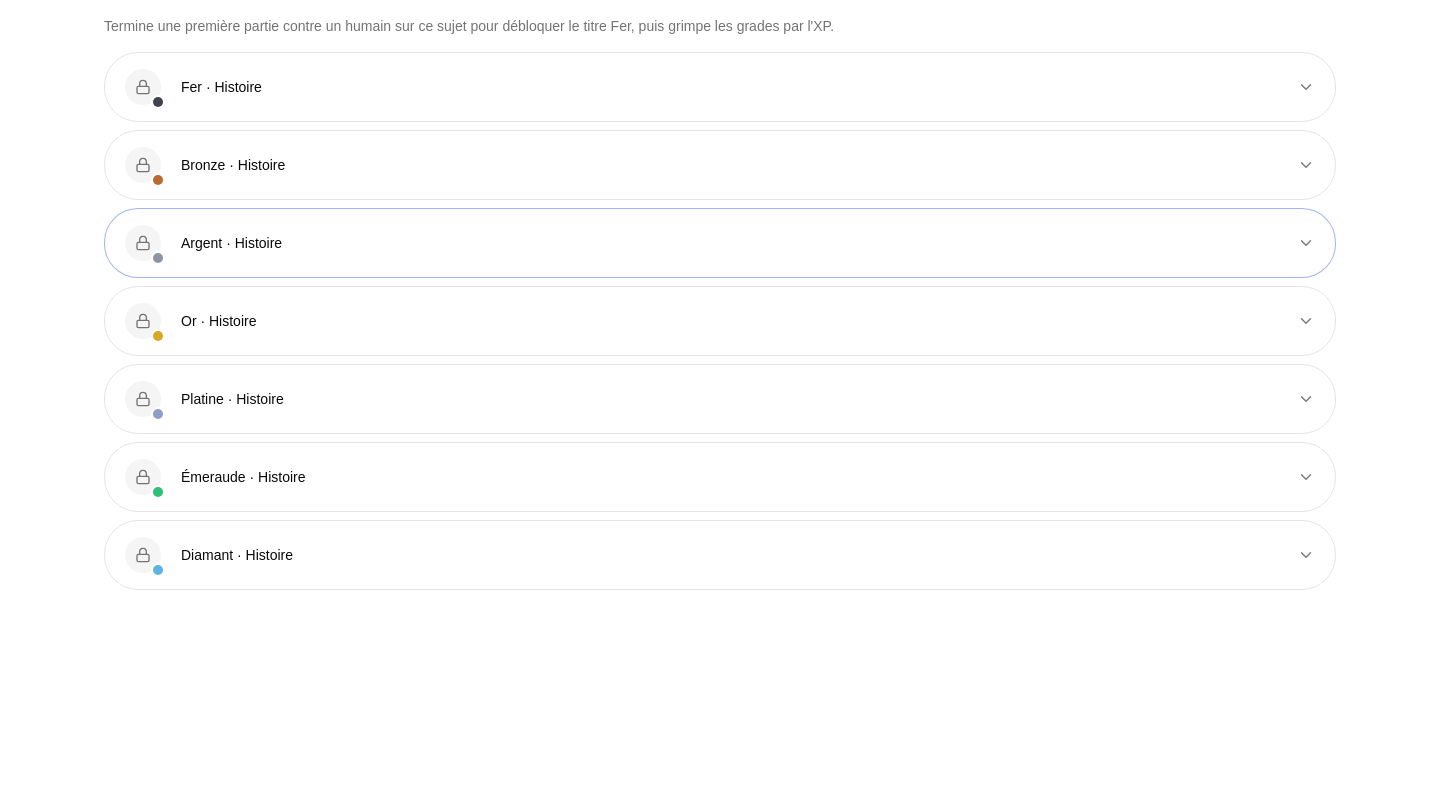
TopicTitlesTab › sans partie humaine : toute l'échelle est verrouillée et Fer annonce sa condition
Expected: the 1st icon with class "lucide-lock" is shown, [135,79,151,95]
Click the button "Fer · Histoire". click: point(143, 87)
box: [105,53,1335,121]
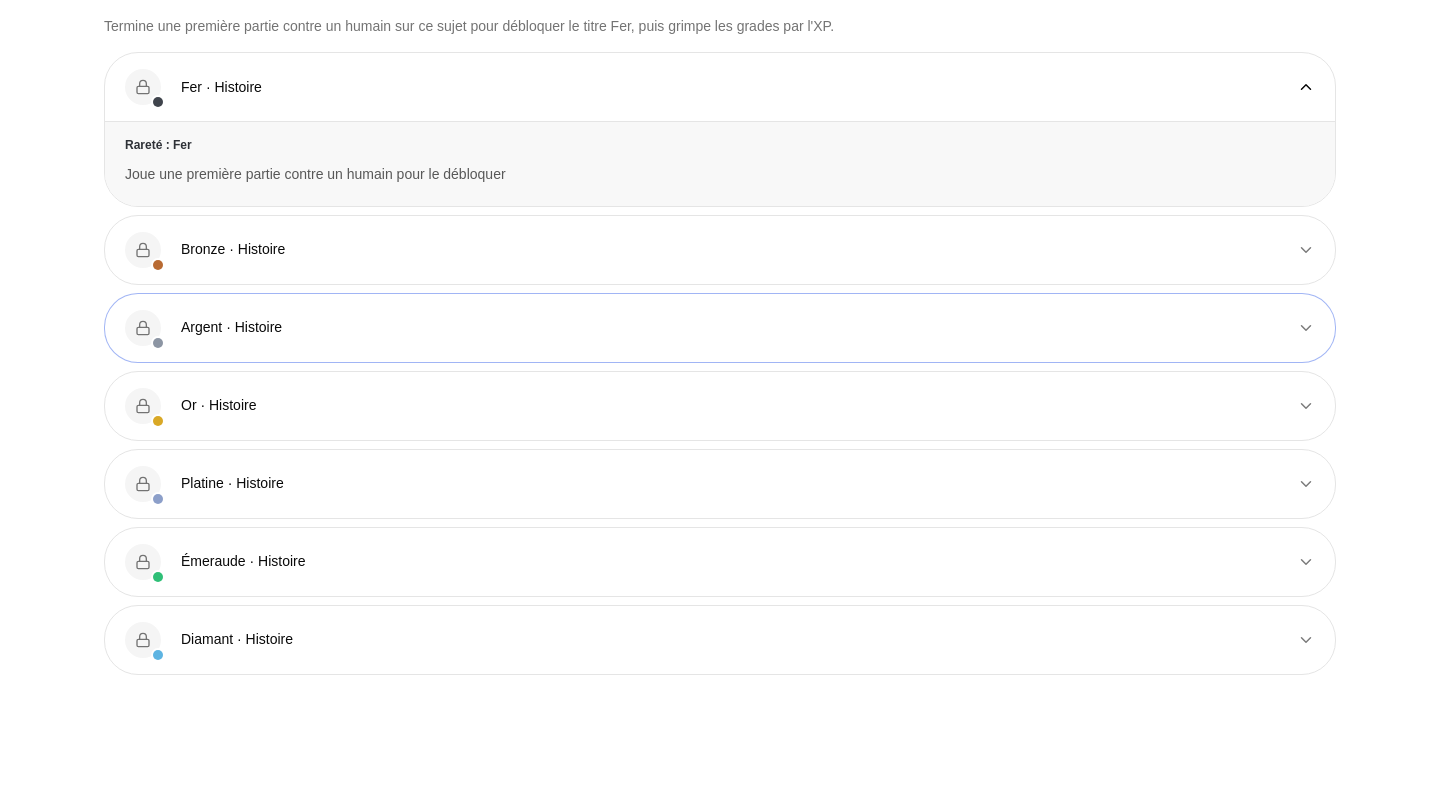
Expected: the 2nd icon with class "lucide-lock" is shown, [135,242,151,258]
Now the text "Joue une première partie contre un humain pour le débloquer" is shown, box [125,166,506,182]
